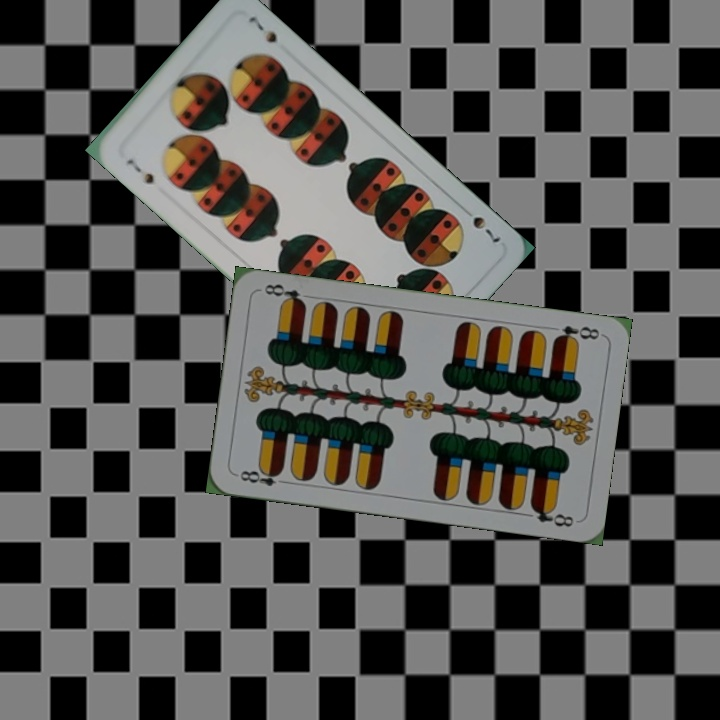E8: (235, 464, 291, 489), (549, 321, 602, 346)
S7: (457, 201, 503, 246), (122, 155, 157, 187)
